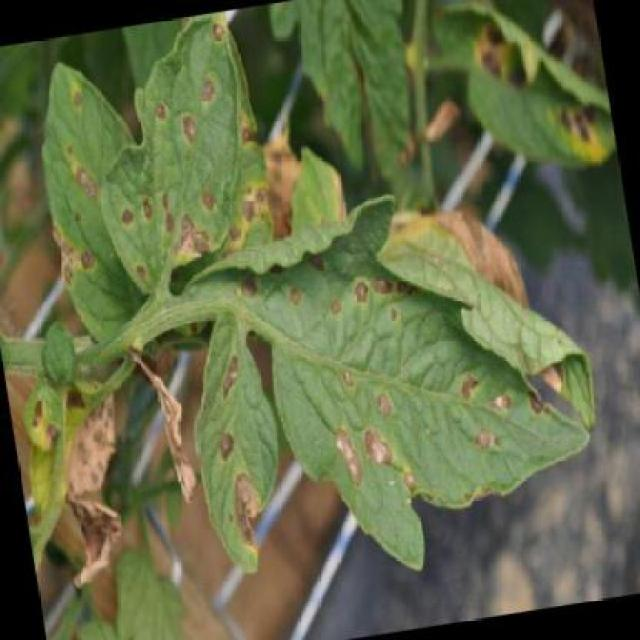Septoria leaf spot: (248, 202, 589, 572), (77, 12, 288, 305), (166, 300, 303, 578)
